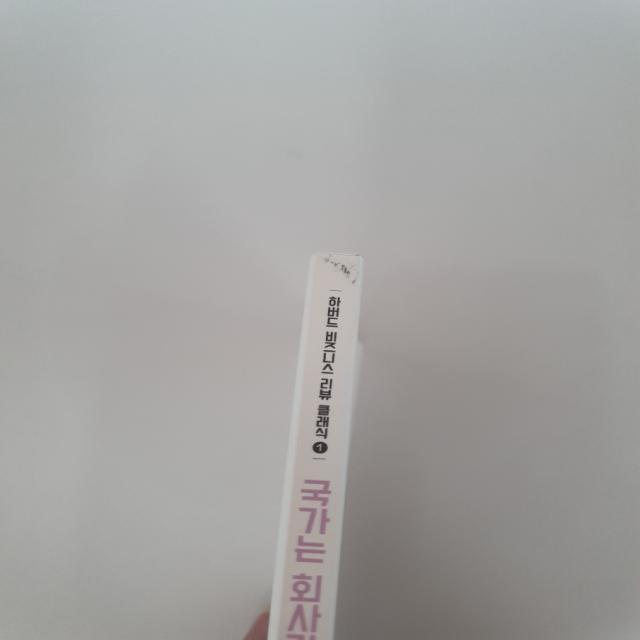Wornout: (309, 249, 367, 259)
